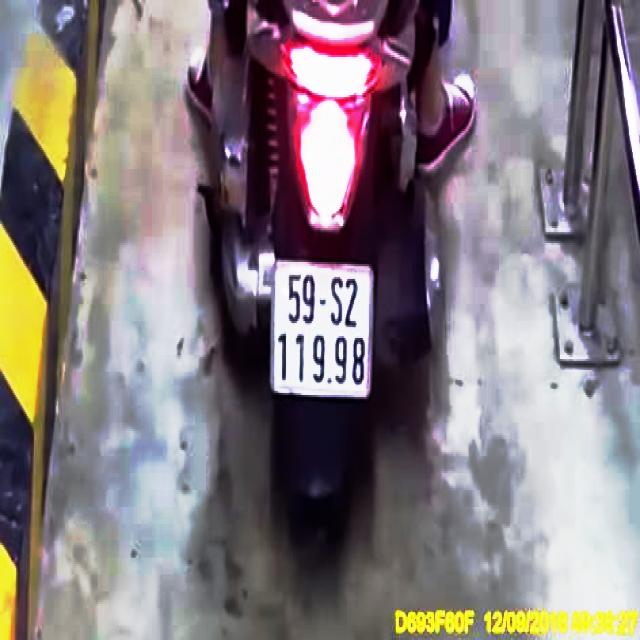license_plate: (271, 259, 374, 398)
